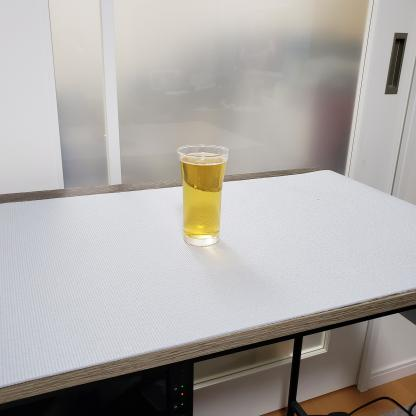glass: (172, 138, 240, 252)
